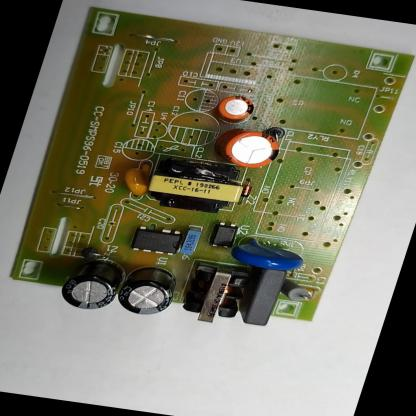Cap1: (218, 124, 285, 172)
Cap2: (214, 93, 257, 123)
Cap3: (111, 263, 183, 318)
Cap4: (55, 252, 129, 313)
MOSFET: (129, 224, 184, 258)
Mov: (226, 233, 311, 274)
Resistor: (277, 276, 314, 303)
Transformer: (142, 156, 250, 217), (178, 264, 254, 329)
